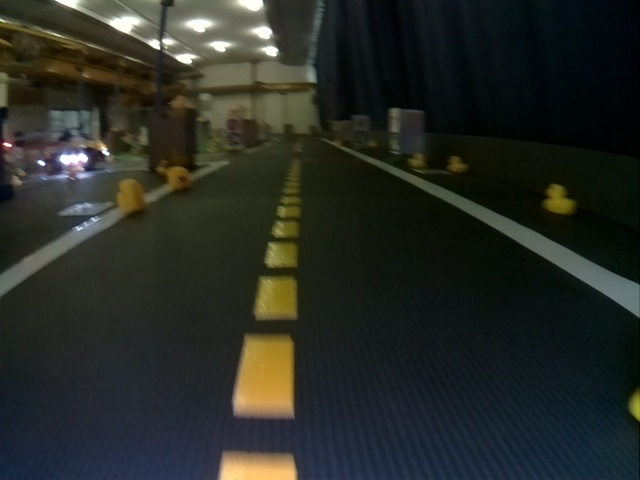Duckie: (117, 178, 145, 213), (544, 183, 568, 215), (167, 167, 190, 189), (449, 155, 467, 172), (408, 153, 425, 167), (171, 97, 188, 107)
Duckiebot: (48, 148, 105, 170)
QR code: (61, 202, 109, 215)
